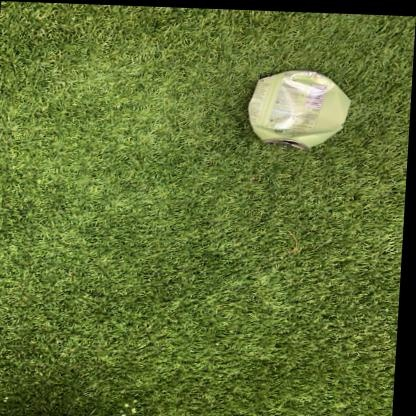trash: (248, 71, 350, 147)
